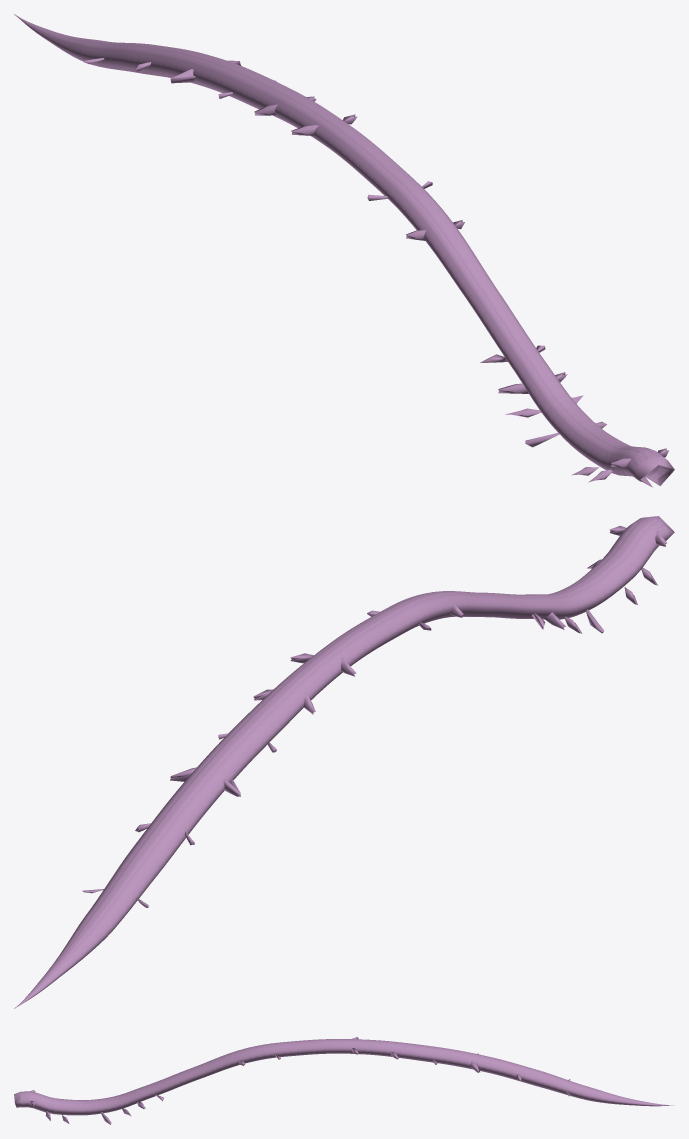
3 views of the same model, one above another, from view 1: azimuth 30°, elevation 25°; view 2: azimuth 150°, elevation 25°; view 3: azimuth 270°, elevation 25° (orthographic). The views are drawn at different scales.
Parts seen in each view (by area): view 1: 脊髓硬膜; view 2: 脊髓硬膜; view 3: 脊髓硬膜.
Part boxes in pixels (x1=…): 脊髓硬膜: x1=14, y1=14, x2=674, y2=487; 脊髓硬膜: x1=14, y1=516, x2=674, y2=1008; 脊髓硬膜: x1=14, y1=1037, x2=674, y2=1124.
Bounding box in the file's own units: 0.0532 × 0.0911 × 0.7226.
